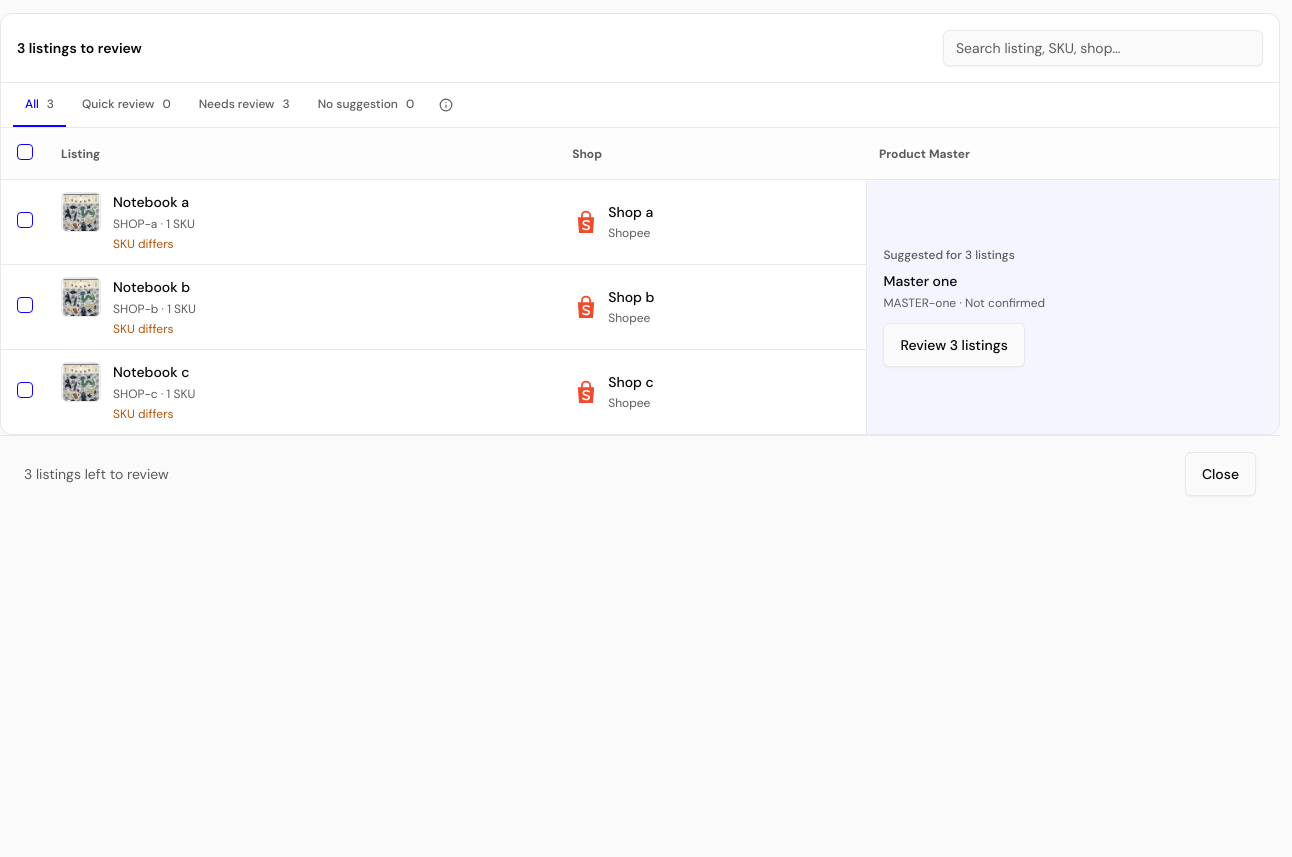
Shared suggested Master groups › shows direct Link and Create actions and reviews only checked listings, not the whole suggested group
The width and height of the screenshot is (1292, 857).
Click the checkbox named "Select listing SHOP-a from Shop a".
click(25, 220)  # box [17,212,33,228]
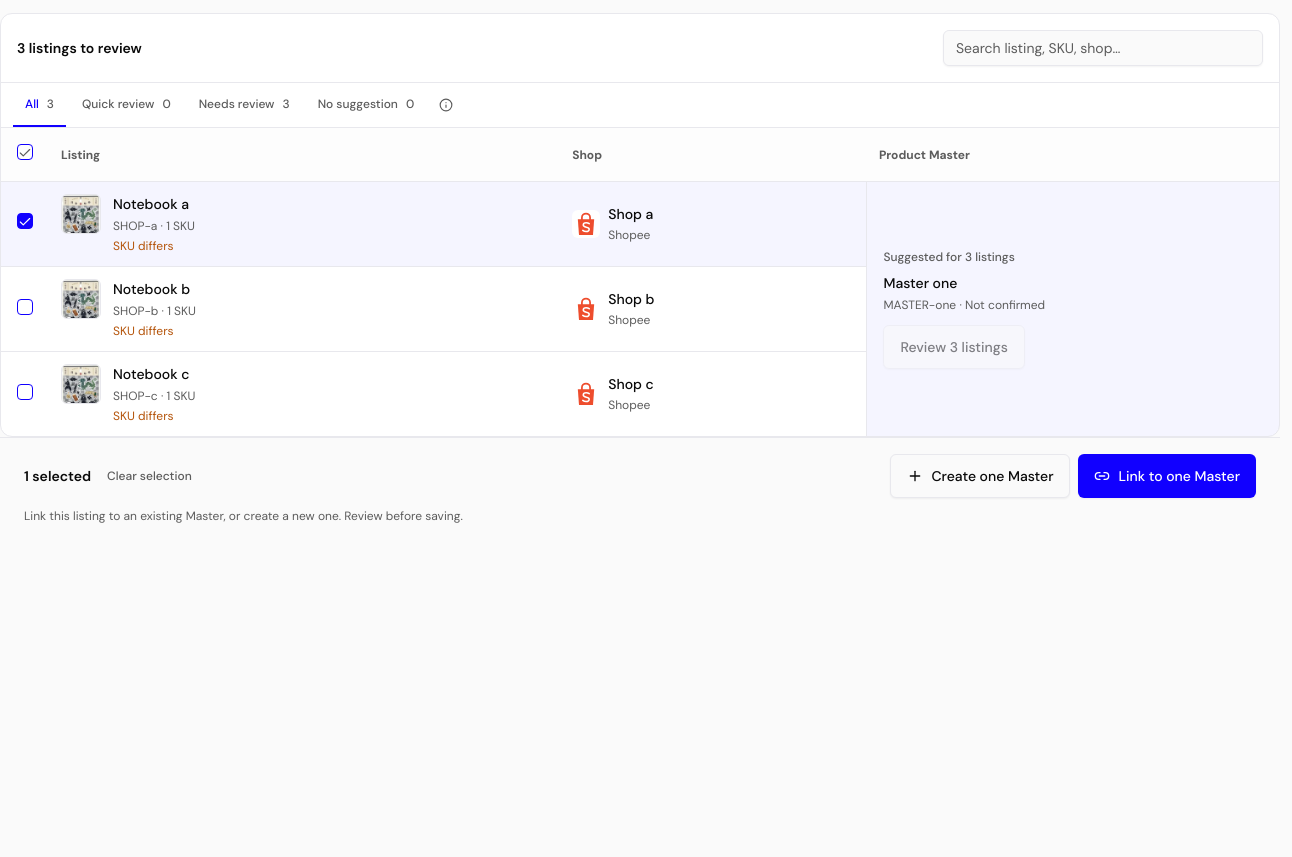
Click the checkbox named "Select listing SHOP-b from Shop b".
click(25, 307)  # box [17,299,33,315]
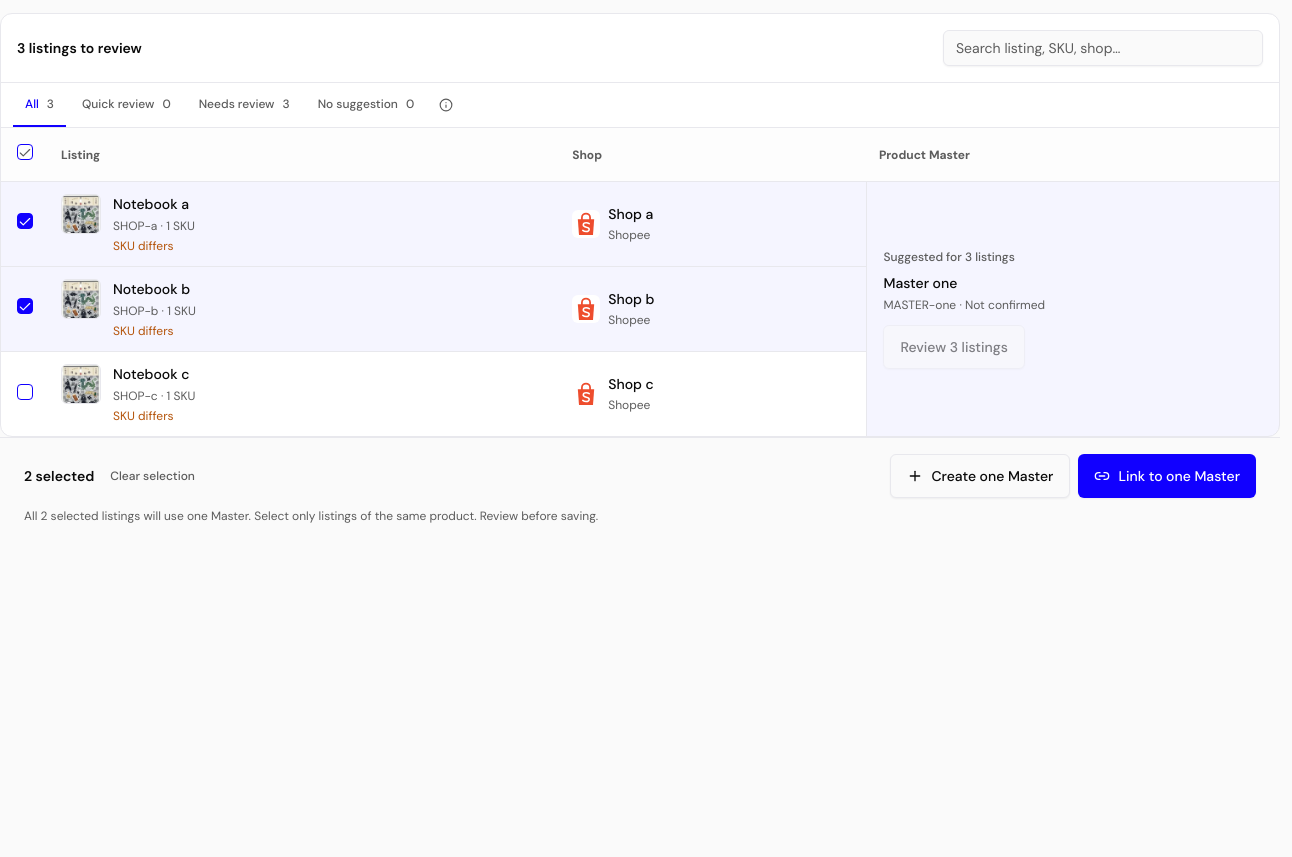
Result: the button "Link to one Master" is enabled
Result: the button "Create one Master" is enabled at [890,454,1070,498]
Result: the text "All 2 selected listings will use one Master" is shown at [24,508,477,524]
Click the button "Link to one Master".
click(1167, 476)  # box [1078,454,1256,498]
(page scrolled)
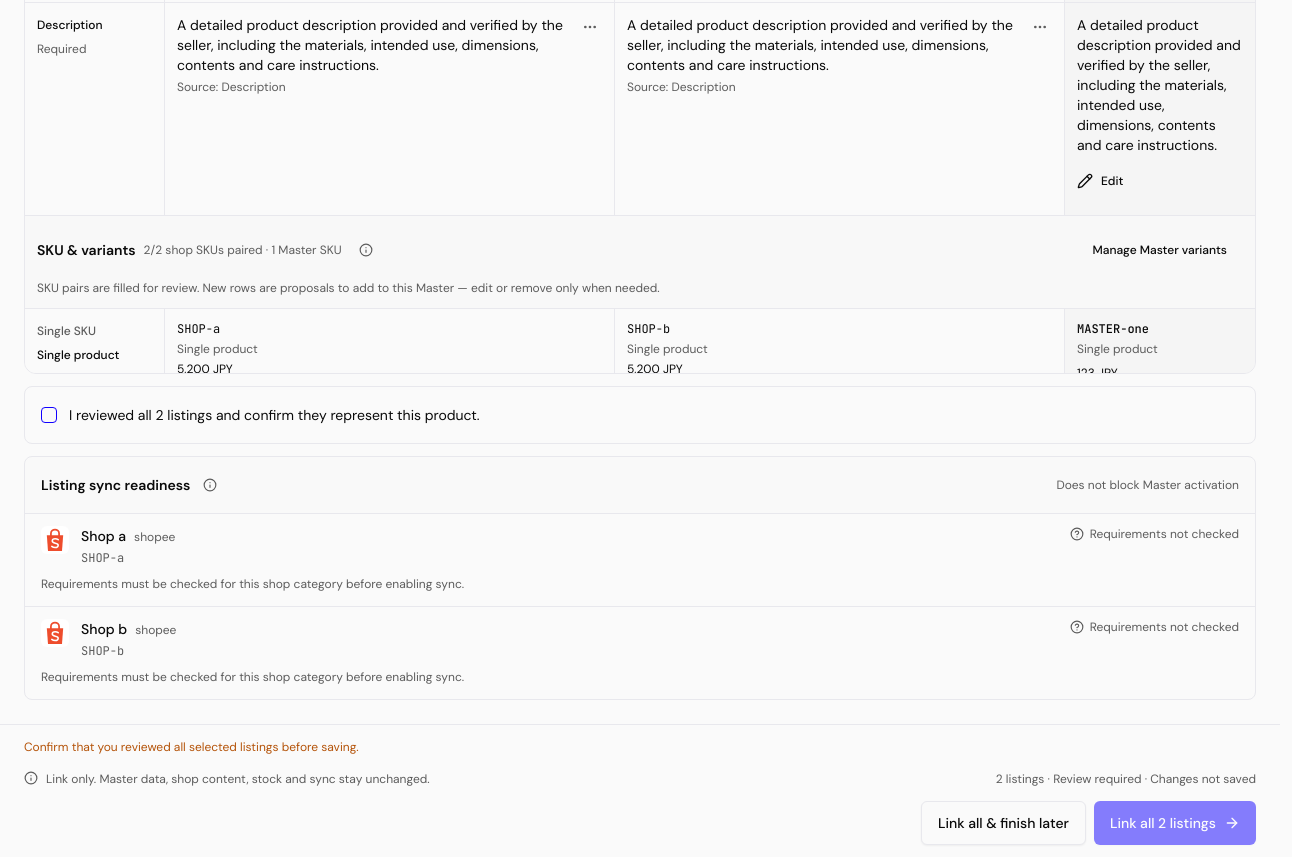
Result: the checkbox named "I reviewed all 2 listings" is not checked at [41,407,57,423]
